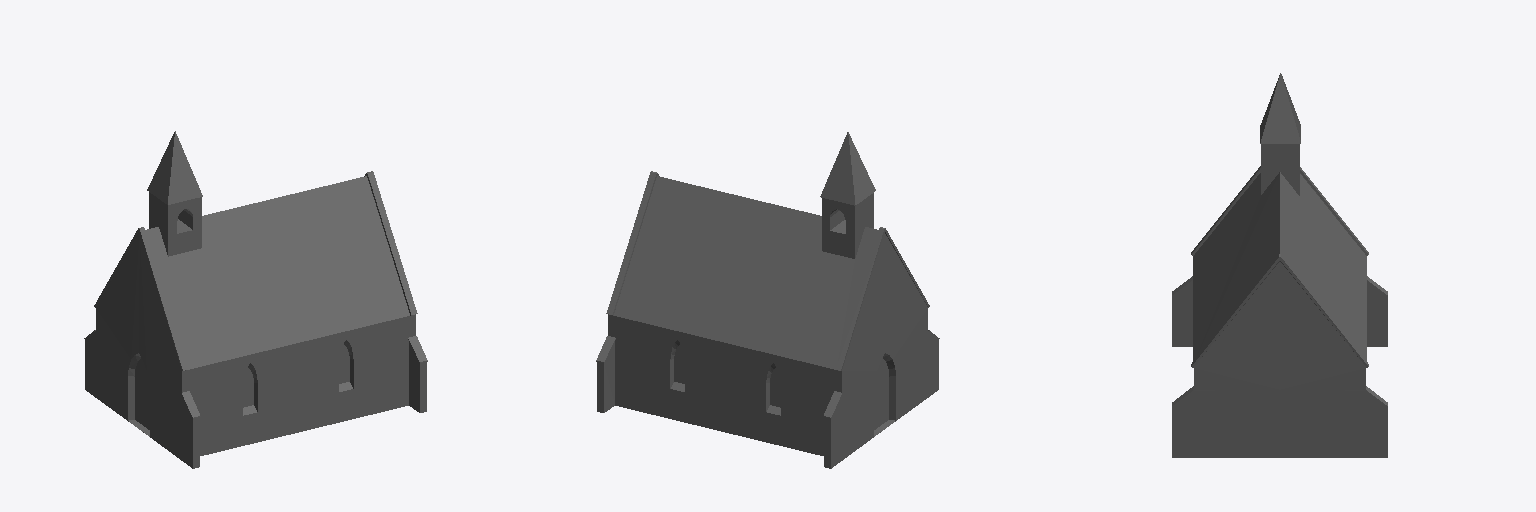
File: chapel.obj
3 views of the same model, side by side, from view 1: azimuth 30°, elevation 25°; view 2: azimuth 150°, elevation 25°; view 3: azimuth 270°, elevation 25° (orthographic).
Size of the model in its own units: 8.3 by 9.76 by 6.62.